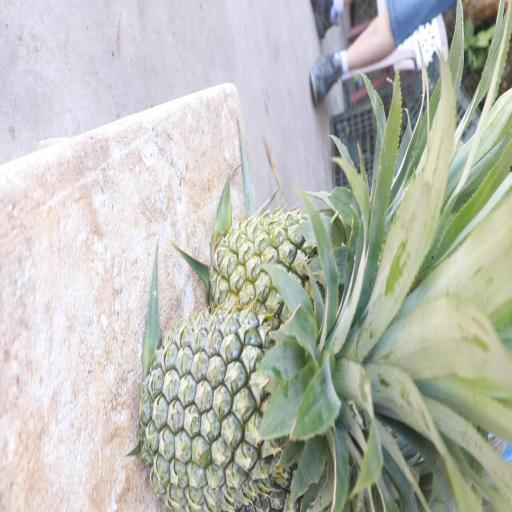Pineapple - v8 v1: (214, 198, 362, 322)
